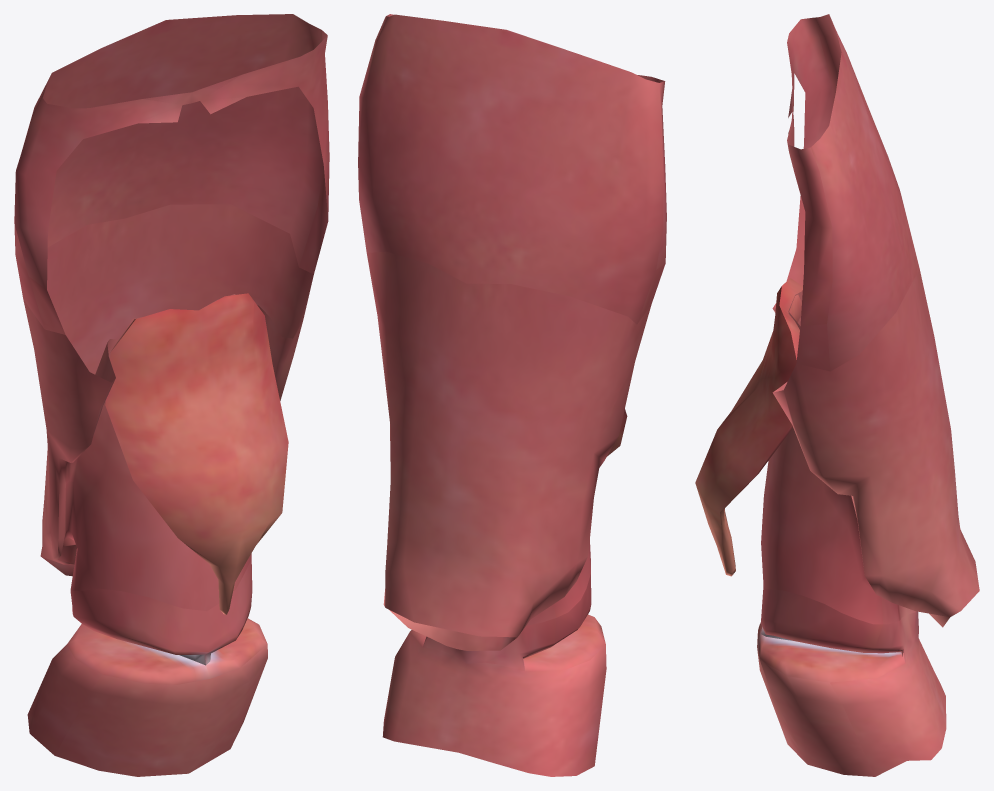
Rendered from 2.2 Pharynx.glb.
3 views of the same model, side by side, from view 1: azimuth 30°, elevation 25°; view 2: azimuth 150°, elevation 25°; view 3: azimuth 270°, elevation 25° (orthographic). The views are drawn at different scales.
Visible parts, largest first — view 1: Larynx, Pharynx, Epiglottis; view 2: Larynx, Pharynx; view 3: Larynx, Pharynx, Epiglottis.
Boxes of the visible parts, box(x1,y1,x2,y2) form: Larynx: box(23, 204, 313, 776); Pharynx: box(14, 14, 329, 334); Epiglottis: box(105, 293, 288, 614); Larynx: box(366, 251, 651, 776); Pharynx: box(358, 14, 666, 324); Larynx: box(757, 248, 979, 776); Pharynx: box(787, 14, 919, 371); Epiglottis: box(695, 278, 802, 576).
Size of the model in its own units: 0.0365 by 0.0822 by 0.0305.
Materials: 1 (1 with a texture image).
